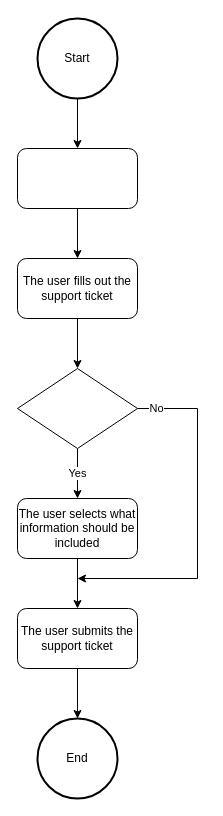
Some shapes in this 223 by 816 pixel diagram are drawn without their labels. Here are the shapes that lost their labels. From the top down, the box of each, then its label:
(16, 148, 138, 208): The user opens the ticket submission page
(16, 368, 138, 448): Does the ticket require extra information?
